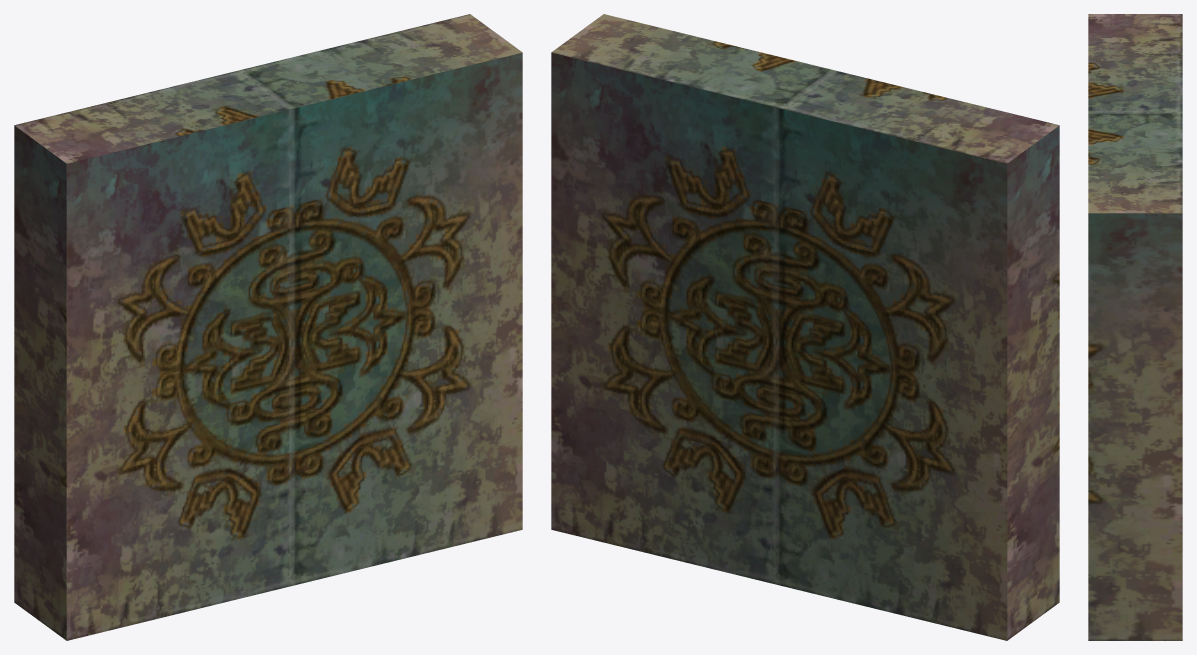
File: door_wt_mb.obj
3 renders of one model, left to right at view 1: azimuth 30°, elevation 25°; view 2: azimuth 150°, elevation 25°; view 3: azimuth 270°, elevation 25°, orthographic. The views are drawn at different scales.
Visible parts, largest first — view 1: door_wt_miniboss_L, door_wt_miniboss_R; view 2: door_wt_miniboss_L, door_wt_miniboss_R; view 3: door_wt_miniboss_R, door_wt_miniboss_L.
Part boxes in pixels (box(x1,y1,x2,y2)): door_wt_miniboss_L: box(14, 69, 294, 640); door_wt_miniboss_R: box(242, 14, 522, 585); door_wt_miniboss_L: box(779, 69, 1059, 640); door_wt_miniboss_R: box(551, 14, 831, 585); door_wt_miniboss_R: box(1088, 113, 1182, 640); door_wt_miniboss_L: box(1088, 14, 1182, 113).
Bounding box in the file's own units: 300 × 300 × 60.
Materials: 1 (1 with a texture image).
